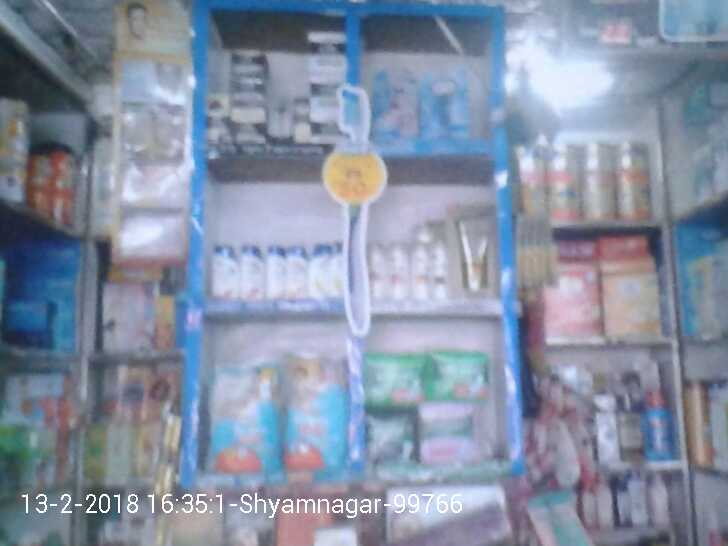venus: (419, 66, 470, 138), (371, 68, 419, 138)
